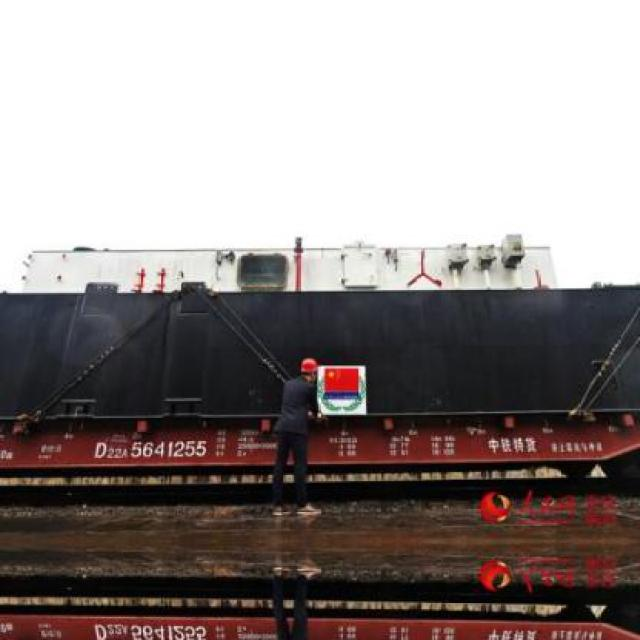helmet: (297, 353, 318, 383)
